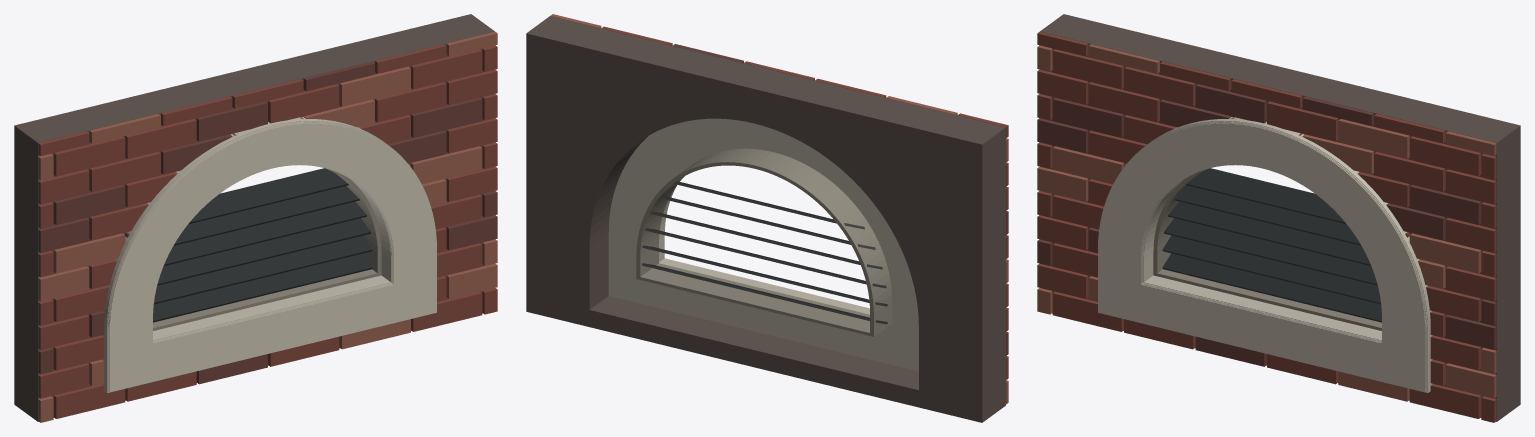
Rendered from xuhui-wuyuan-251-arched-gable-vent-web.glb.
3 views of the same model, side by side, from view 1: azimuth 30°, elevation 25°; view 2: azimuth 150°, elevation 25°; view 3: azimuth 330°, elevation 25° (orthographic).
Parts seen in each view (by area): view 1: 五原路251号花园住宅山墙拱框百叶窗; view 2: 五原路251号花园住宅山墙拱框百叶窗; view 3: 五原路251号花园住宅山墙拱框百叶窗.
Boxes of the visible parts, x1,y1,x2,y2 form: 五原路251号花园住宅山墙拱框百叶窗: (14, 14, 497, 422); 五原路251号花园住宅山墙拱框百叶窗: (526, 14, 1008, 422); 五原路251号花园住宅山墙拱框百叶窗: (1037, 14, 1520, 422).
Size of the model in its own units: 1.44 by 0.84 by 0.167.
